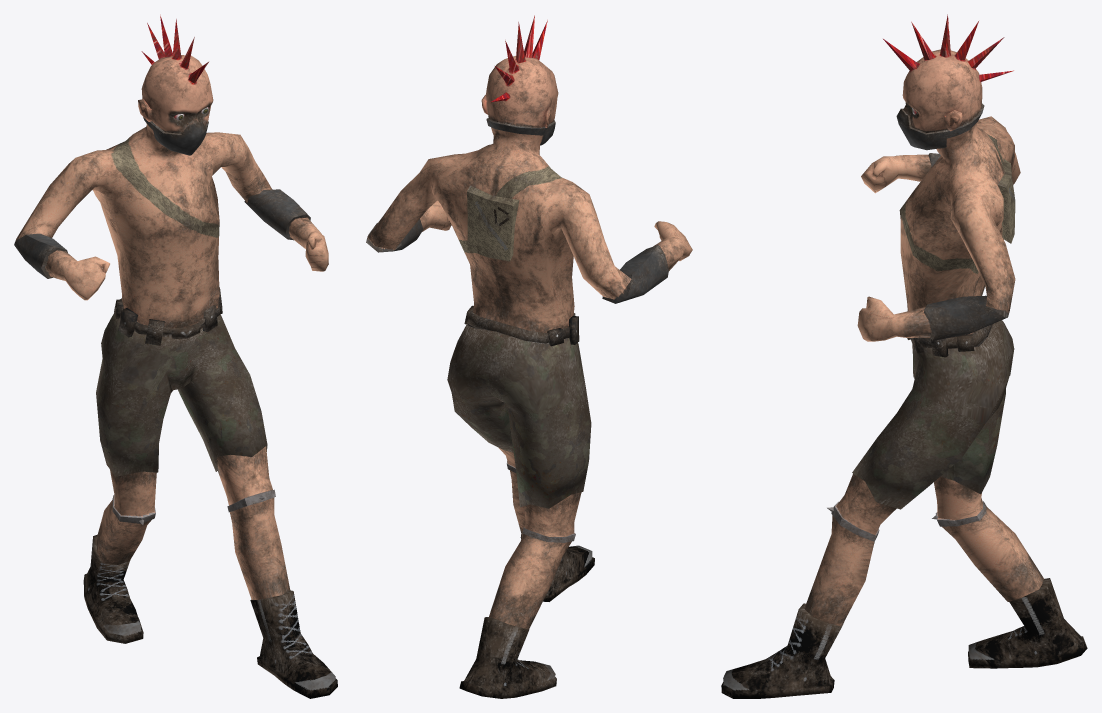
File: Anim_ataque_d1_npc2.0027.obj
The picture shows the model from 3 angles, left to right: view 1: azimuth 30°, elevation 25°; view 2: azimuth 150°, elevation 25°; view 3: azimuth 270°, elevation 25°; orthographic projection. The views are drawn at different scales.
Visible parts, largest first — view 1: polySurface1; view 2: polySurface1; view 3: polySurface1.
Part boxes in pixels (bbox=[...]): polySurface1: bbox=[14, 14, 337, 698]; polySurface1: bbox=[366, 15, 692, 698]; polySurface1: bbox=[721, 14, 1087, 698].
Size of the model in its own units: 4.42 by 9.84 by 4.9.
